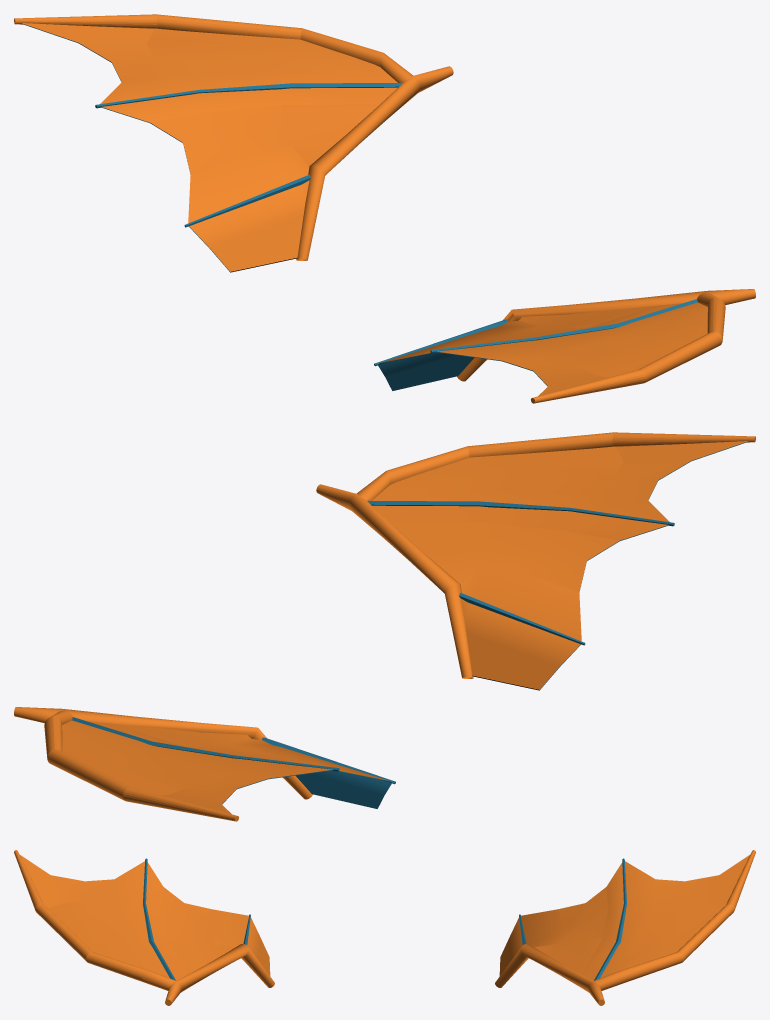
The model's file is ChariKartSkirts1.obj.
3 views of the same model, one above another, from view 1: azimuth 30°, elevation 25°; view 2: azimuth 150°, elevation 25°; view 3: azimuth 270°, elevation 25° (orthographic). The views are drawn at different scales.
Visible parts, largest first — view 1: polySurface54; view 2: polySurface54; view 3: polySurface54.
Boxes of the visible parts, x1,y1,x2,y2 form: polySurface54: (14, 14, 755, 403); polySurface54: (14, 432, 755, 821); polySurface54: (14, 850, 755, 1005).
Bounding box in the file's own units: 1.16 × 0.4537 × 3.07.
